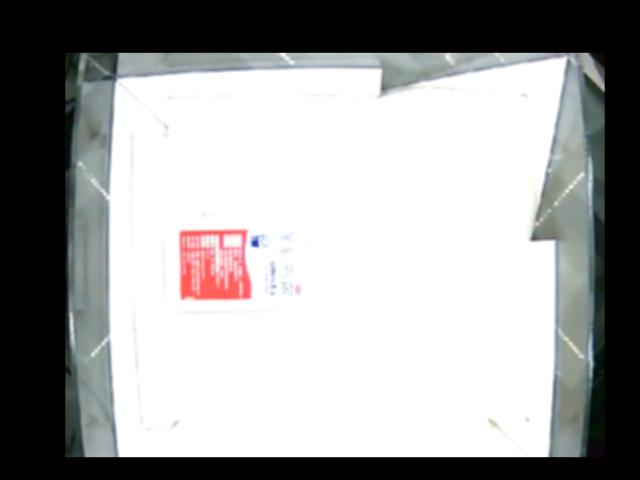Medicine: (161, 212, 313, 313)
